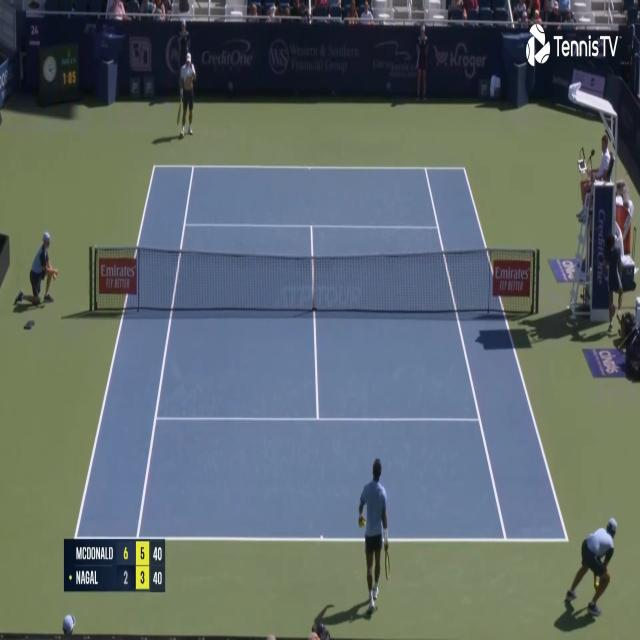tennis-player: (356, 454, 391, 617), (176, 50, 197, 140)
